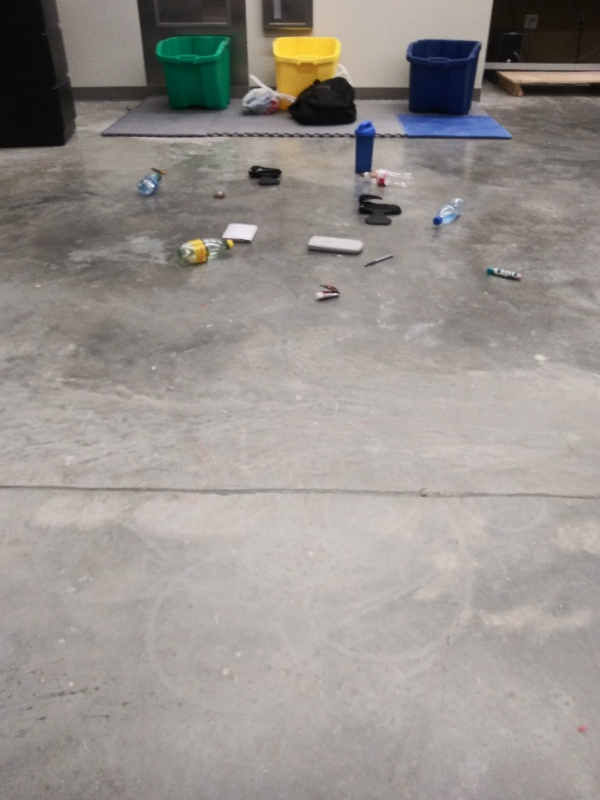bottle: (173, 235, 237, 268), (358, 164, 417, 192), (430, 191, 468, 229), (132, 165, 163, 199)
